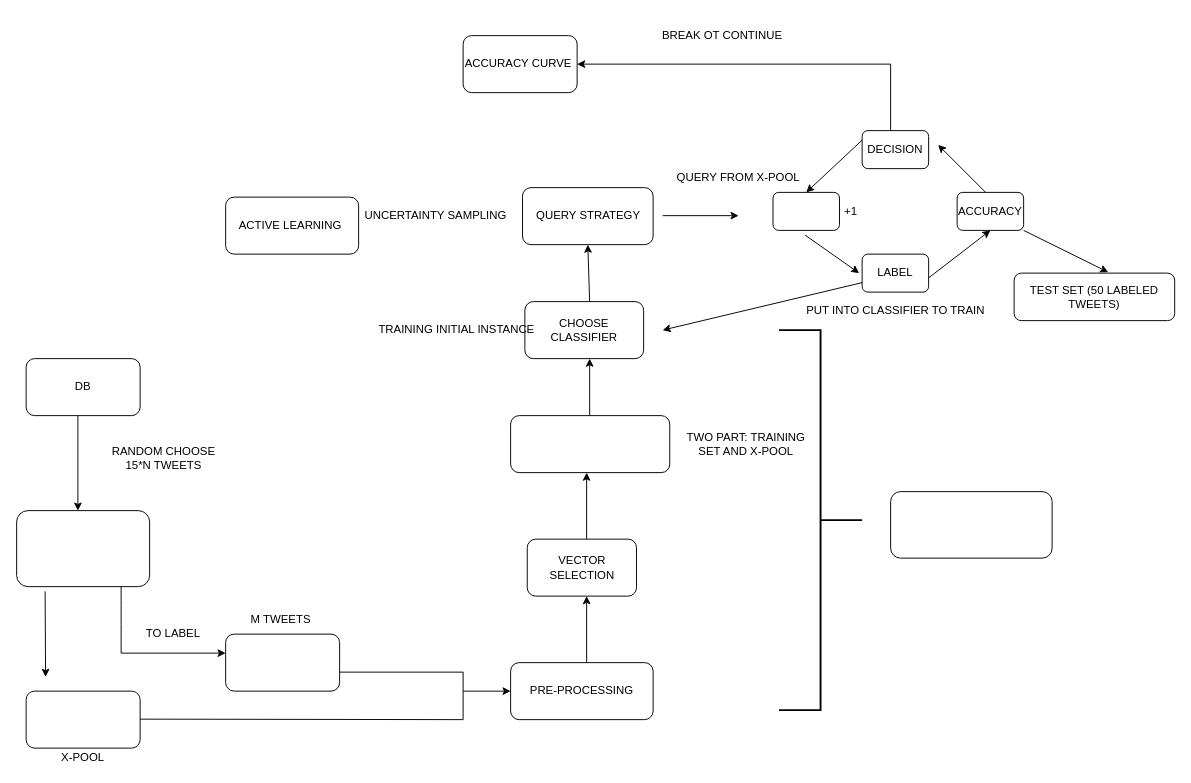
Some shapes in this 1191 by 783 pixel diagram are drawn without their labels. Each missing label, with the box of its shape:
15*N-M Tweets: (25, 690, 140, 748)
FEATURE MATRIX 15N* NUMBER OF FEATURES: (510, 415, 670, 473)
GUI: (16, 510, 150, 587)
LABELED TRAINING SET: (225, 633, 340, 691)
QUERY: (772, 191, 840, 230)
SUPERVISED LEARNING: (890, 491, 1052, 558)
